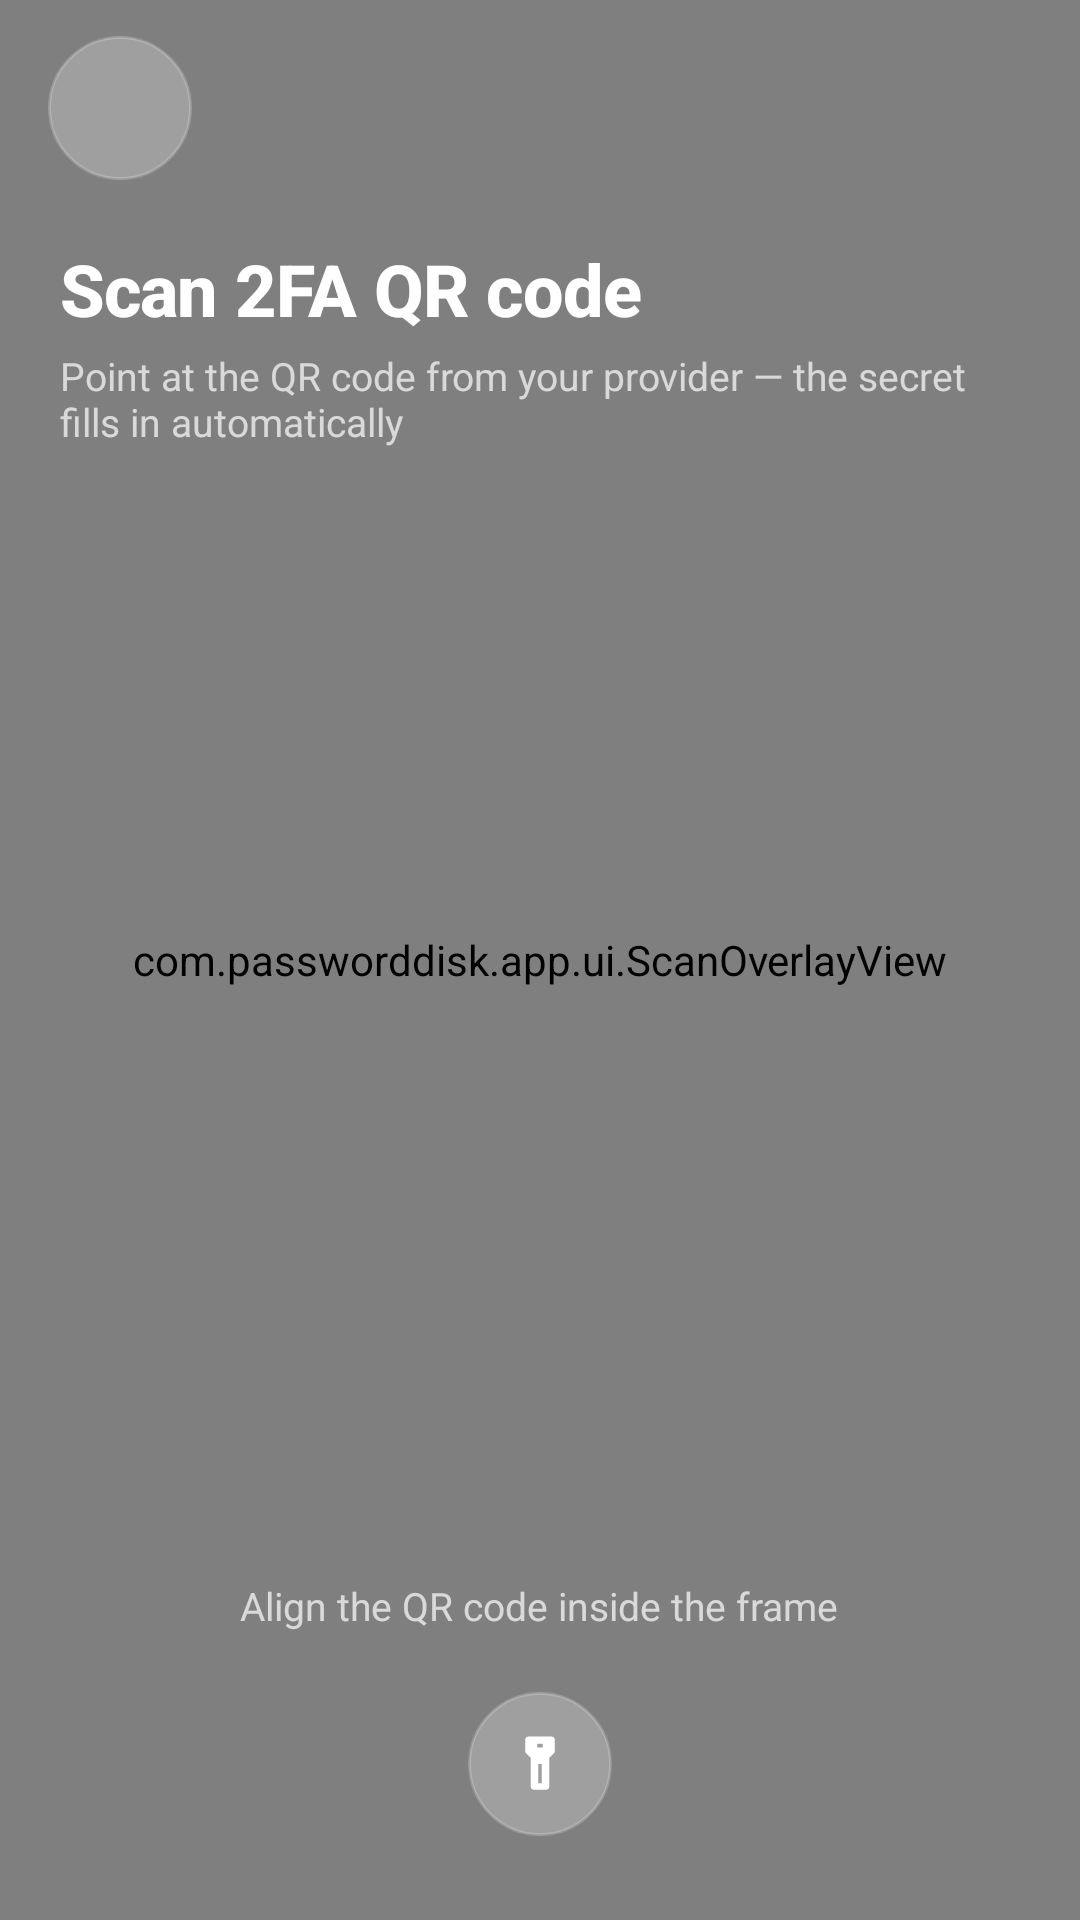

Icon bounding boxes for this 1080 × 1920 phone screenshot, format (x1, y1, x2, y2):
Turn on flashlight: (468, 1692, 611, 1836)
